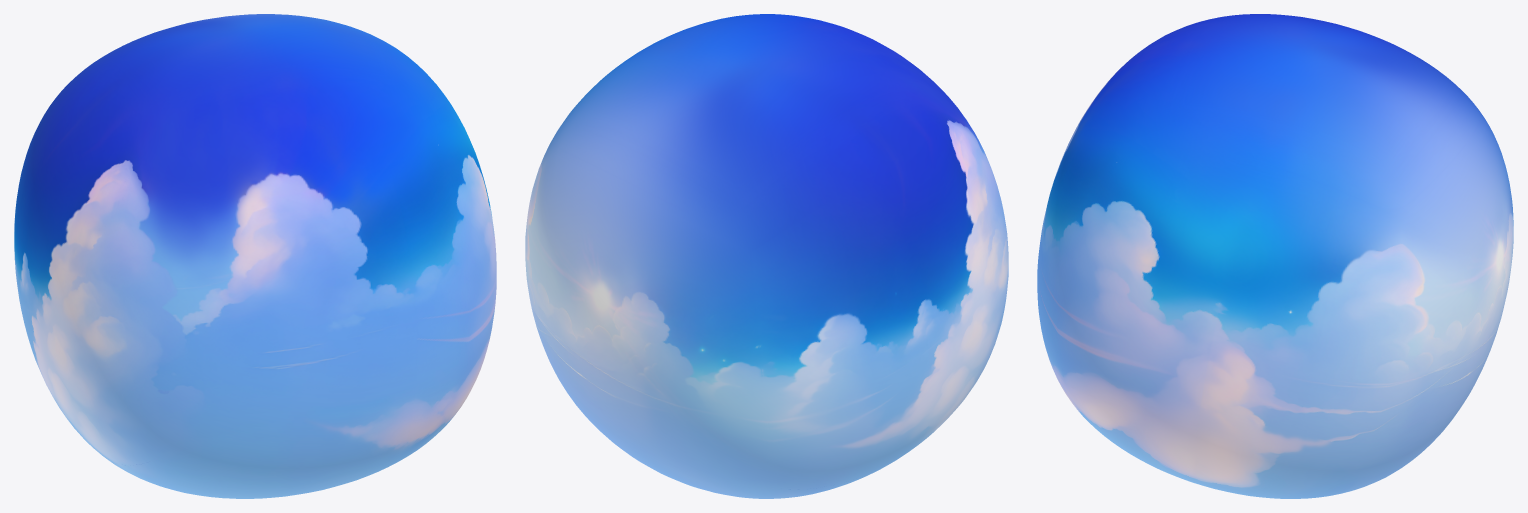
File: Stylized_Cloudy_Sky.glb
3 views of the same model, side by side, from view 1: azimuth 30°, elevation 25°; view 2: azimuth 150°, elevation 25°; view 3: azimuth 270°, elevation 25° (orthographic). The views are drawn at different scales.
Visible parts, largest first — view 1: Cube; view 2: Cube; view 3: Cube.
Boxes of the visible parts, bbox=[...] form: Cube: bbox=[14, 14, 496, 498]; Cube: bbox=[525, 14, 1008, 498]; Cube: bbox=[1037, 14, 1513, 498].
Bounding box in the file's own units: 1603 × 1589 × 1616.
Materials: 1 (1 with a texture image).
